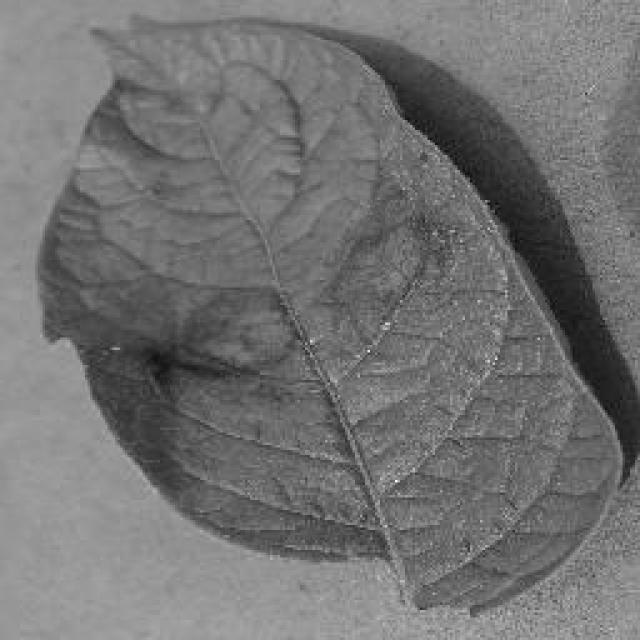Potato: (32, 10, 628, 615)
